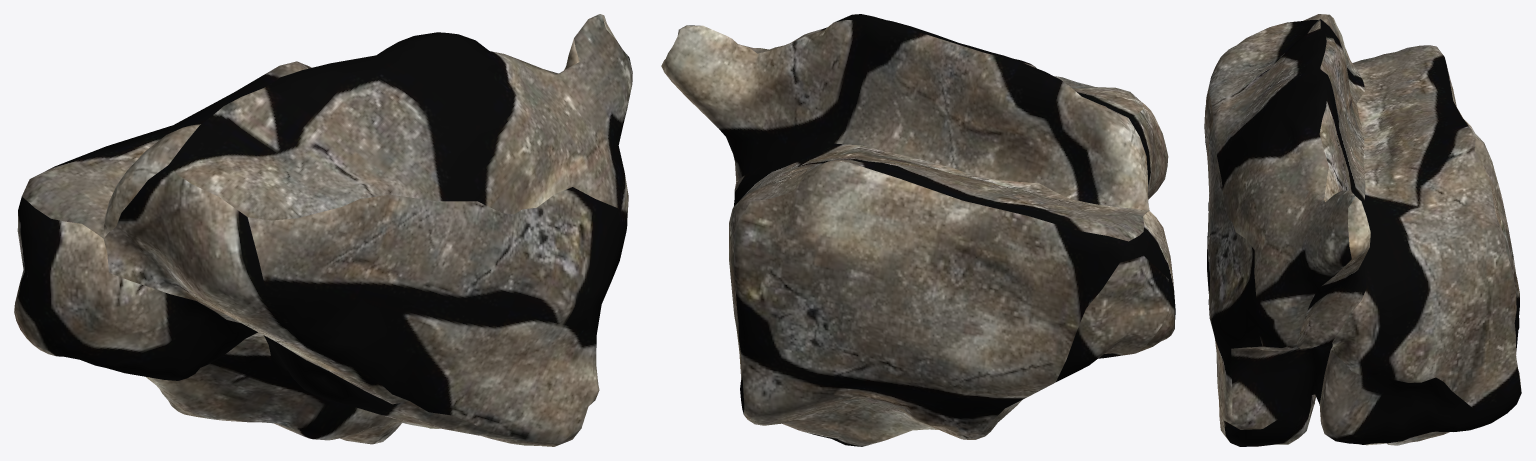
The model's file is rock7.glb.
The picture shows the model from 3 angles, left to right: view 1: azimuth 30°, elevation 25°; view 2: azimuth 150°, elevation 25°; view 3: azimuth 270°, elevation 25°; orthographic projection. The views are drawn at different scales.
Visible parts, largest first — view 1: Rock7; view 2: Rock7; view 3: Rock7.
Boxes of the visible parts, x1,y1,x2,y2 form: Rock7: (14,14,632,446); Rock7: (661,14,1175,446); Rock7: (1204,14,1521,446).
Size of the model in its own units: 5.51 by 3.88 by 3.08.
Materials: 1 (1 with a texture image).
